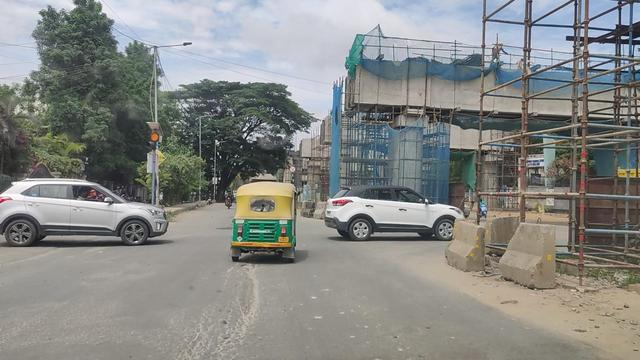LMV: (1, 182, 183, 242), (328, 188, 459, 241), (235, 182, 296, 258)
RoadDamages: (192, 312, 262, 360), (217, 266, 268, 305)
